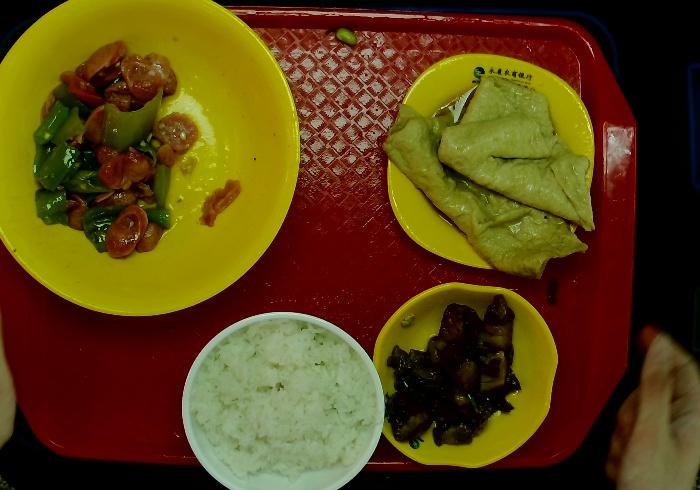YKMZ-Fan_Wan: (177, 307, 389, 490)
YKMZ-Huang_Se_Ao_Bian_Wan: (368, 279, 563, 473)
YKMZ-Huang_Se_Fang_Die: (383, 50, 599, 274)
YKMZ-Huang_Se_Tang_Wan: (1, 1, 305, 320)
